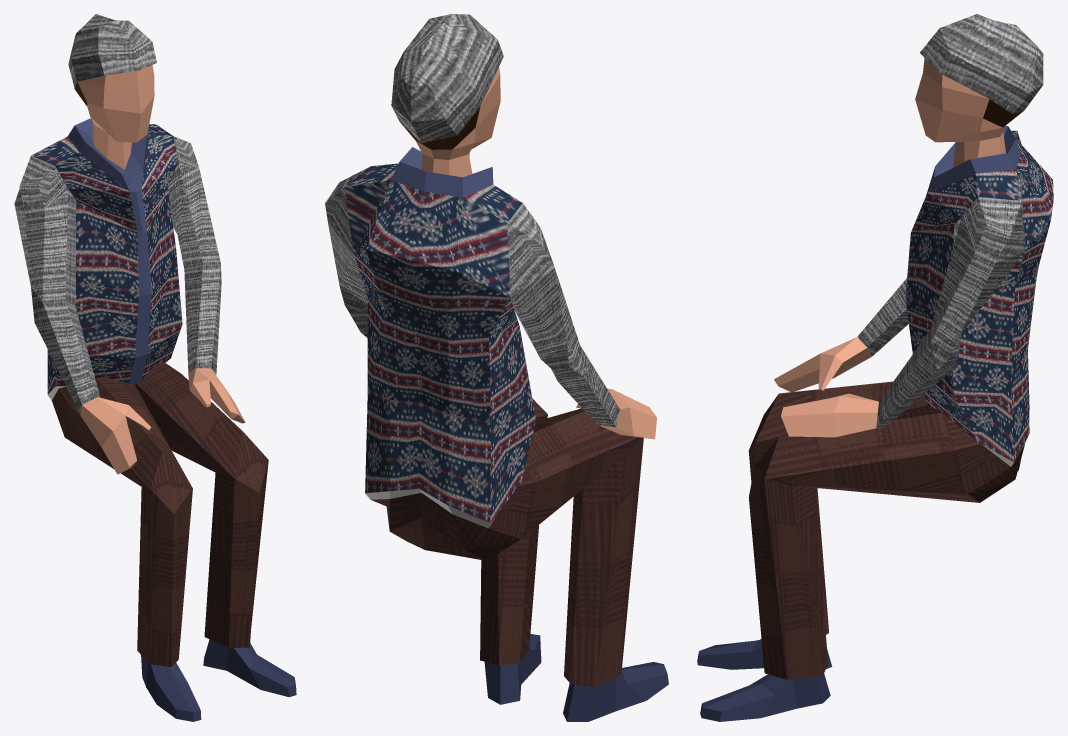
Rendered from AutumnManB.006.glb.
3 renders of one model, left to right at view 1: azimuth 30°, elevation 25°; view 2: azimuth 150°, elevation 25°; view 3: azimuth 270°, elevation 25°, orthographic. The views are drawn at different scales.
Visible parts, largest first — view 1: AutumnManB.006; view 2: AutumnManB.006; view 3: AutumnManB.006.
Part boxes in pixels (x1,y1,x2,y2): AutumnManB.006: (14, 14, 296, 721); AutumnManB.006: (325, 14, 668, 721); AutumnManB.006: (697, 14, 1053, 721).
Bounding box in the file's own units: 0.4584 × 1.41 × 0.6778.
1 material, 1 textured.
